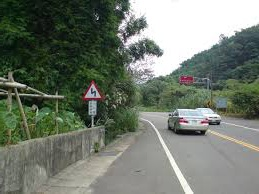Double_bend_left: (83, 80, 104, 101)
